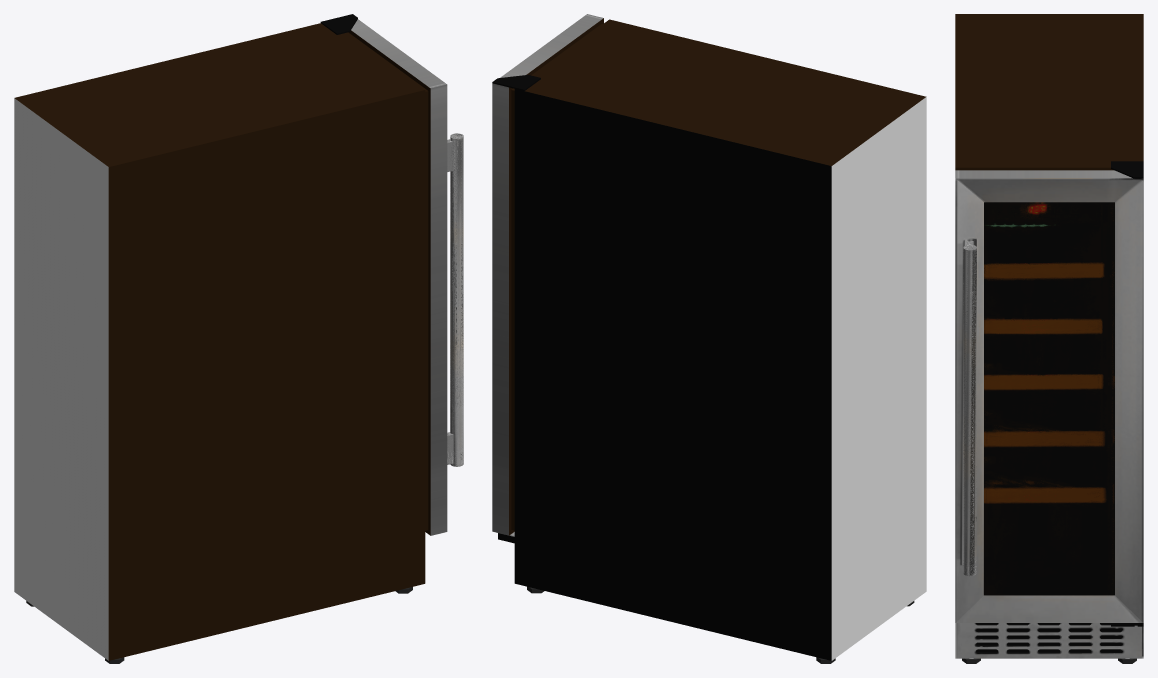
3 renders of one model, left to right at view 1: azimuth 30°, elevation 25°; view 2: azimuth 150°, elevation 25°; view 3: azimuth 270°, elevation 25°, orthographic.
Parts seen in each view (by area): view 1: SketchUp (×5), Component_8; view 2: SketchUp (×6); view 3: SketchUp (×5), Component_8.
Boxes of the visible parts, x1,y1,x2,y2 form: SketchUp (×5): (14,19,447,660); Component_8: (450,137,463,466); SketchUp (×6): (492,14,926,660); SketchUp (×5): (955,14,1143,658); Component_8: (963,248,976,576).
Bounding box in the file's own units: 25.64 × 11.61 × 34.14.
10 materials, 5 textured.
